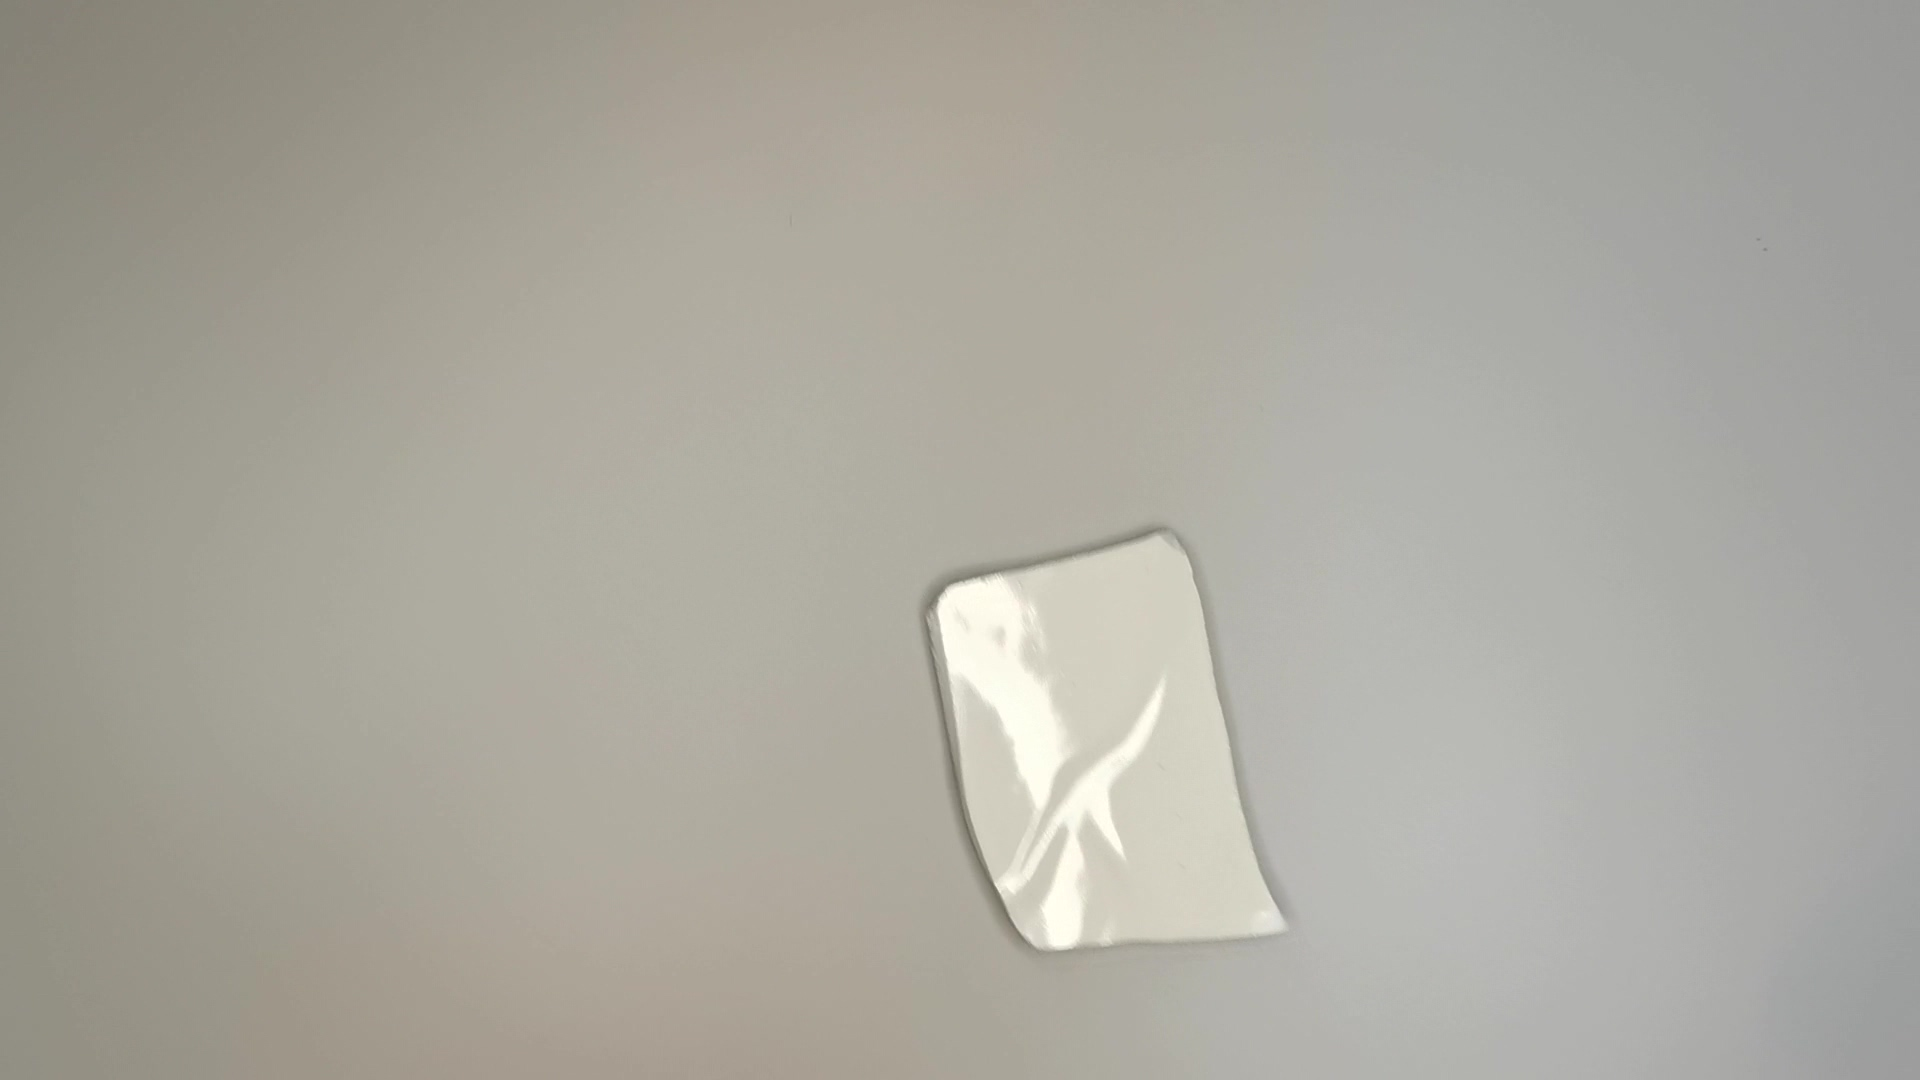ceramic: (915, 517, 1298, 957)
